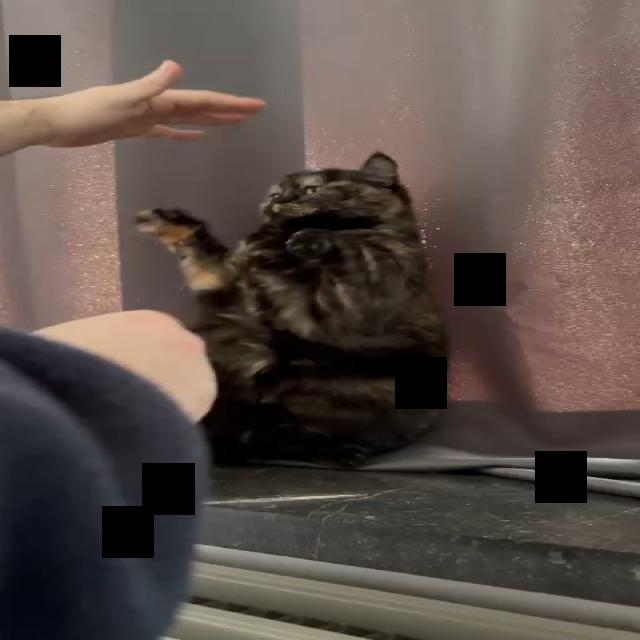authorized: (133, 150, 451, 470)
